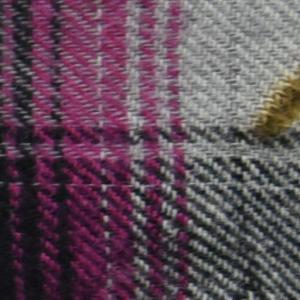Damage: (263, 80, 300, 133)
Oil Stain: (244, 62, 300, 147)
